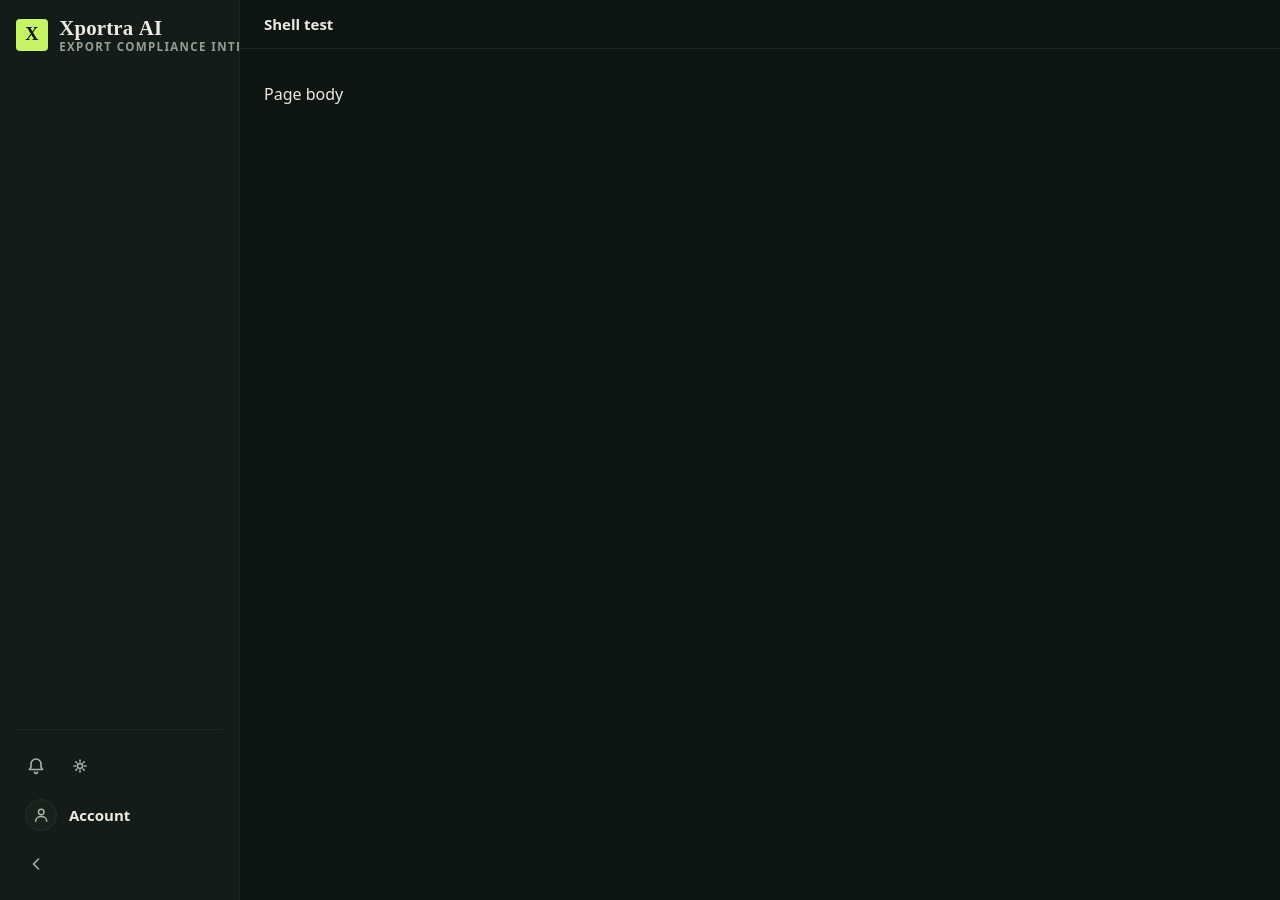
Test: account menu › shows the signed-in name, email, and organization
What coordinates should you click on to do the following:
click the button "Account"
I would click on:
 (120, 815)
Its box is [16, 790, 223, 840].
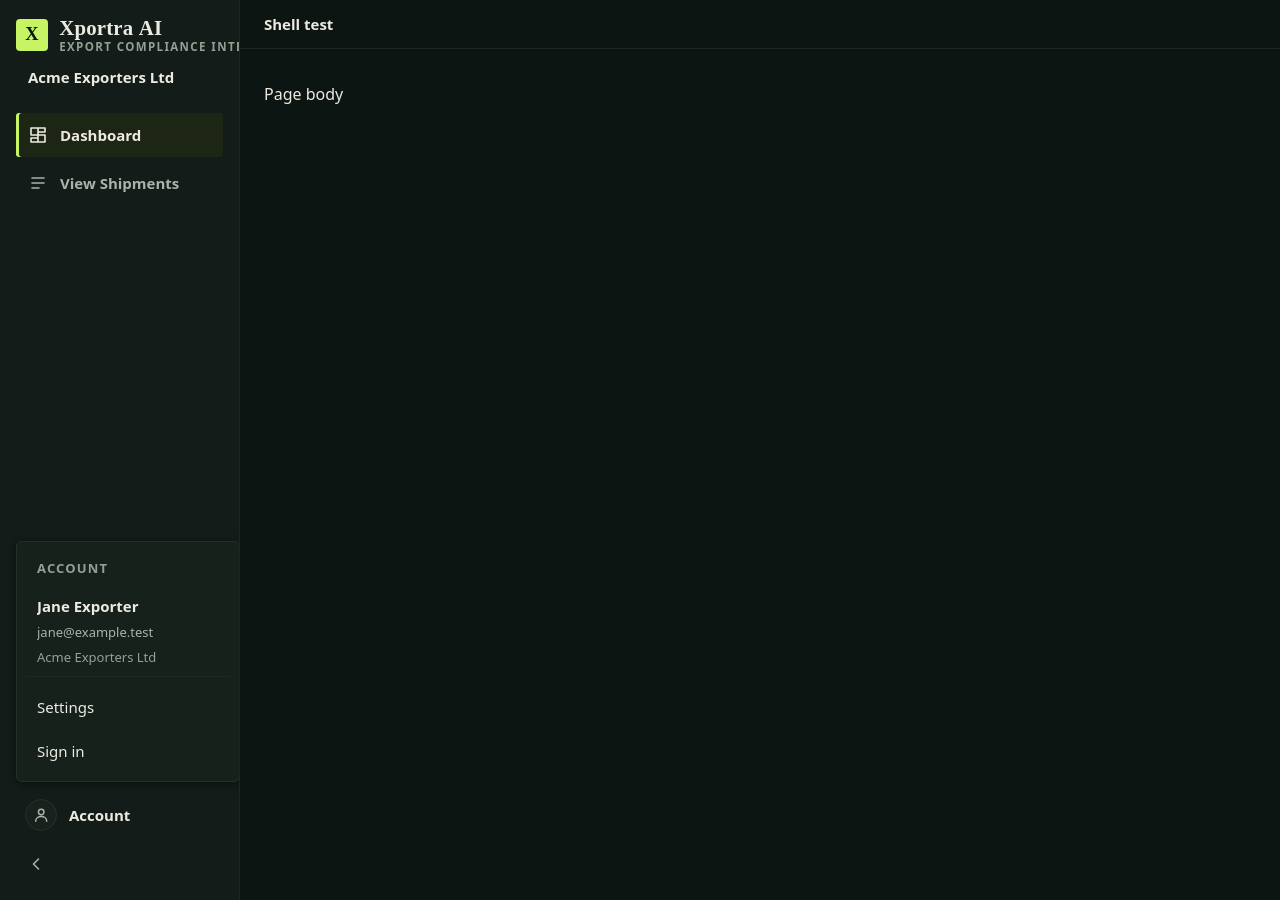
expect the text "Jane Exporter" is shown: met, box [37, 596, 138, 616]
expect the text "jane@example.test" is shown: met, box [37, 623, 153, 641]
expect the text "Acme Exporters Ltd" below "Jane Exporter" is shown: met, box [37, 648, 156, 666]
